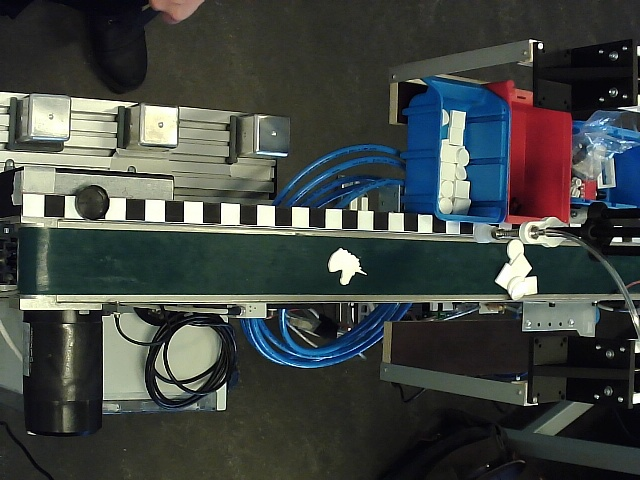unicorn: (327, 246, 369, 287)
